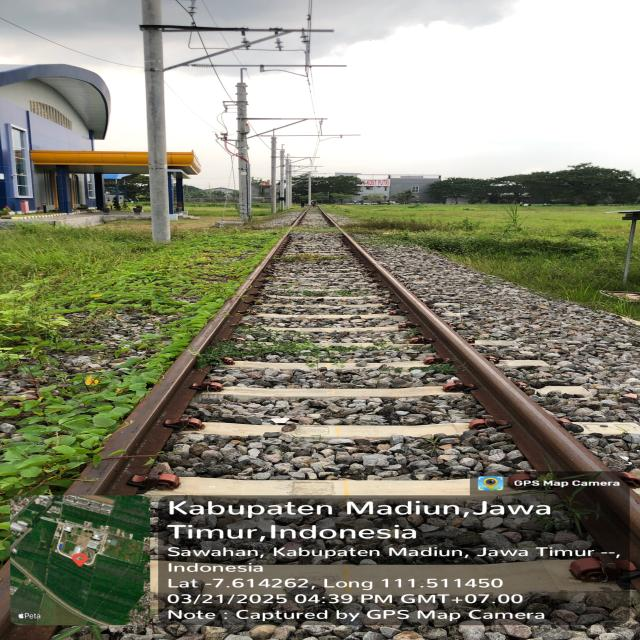rail-detection: (343, 234, 640, 560), (71, 234, 289, 494)
